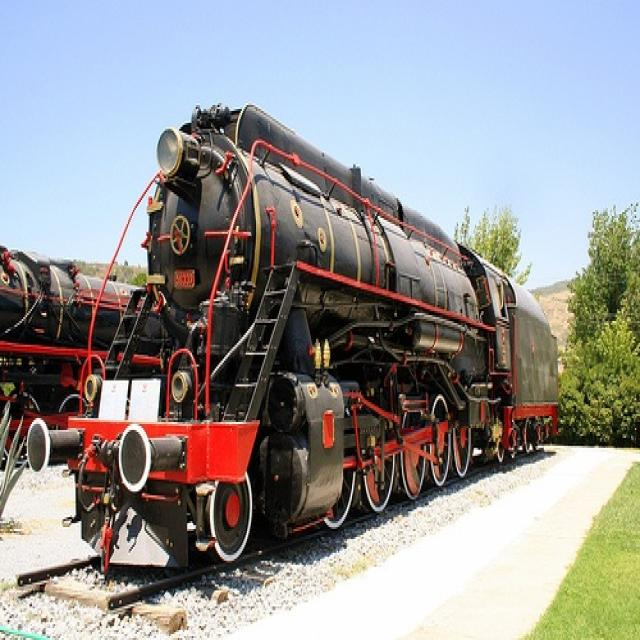train: (24, 101, 561, 563), (0, 246, 145, 462)
